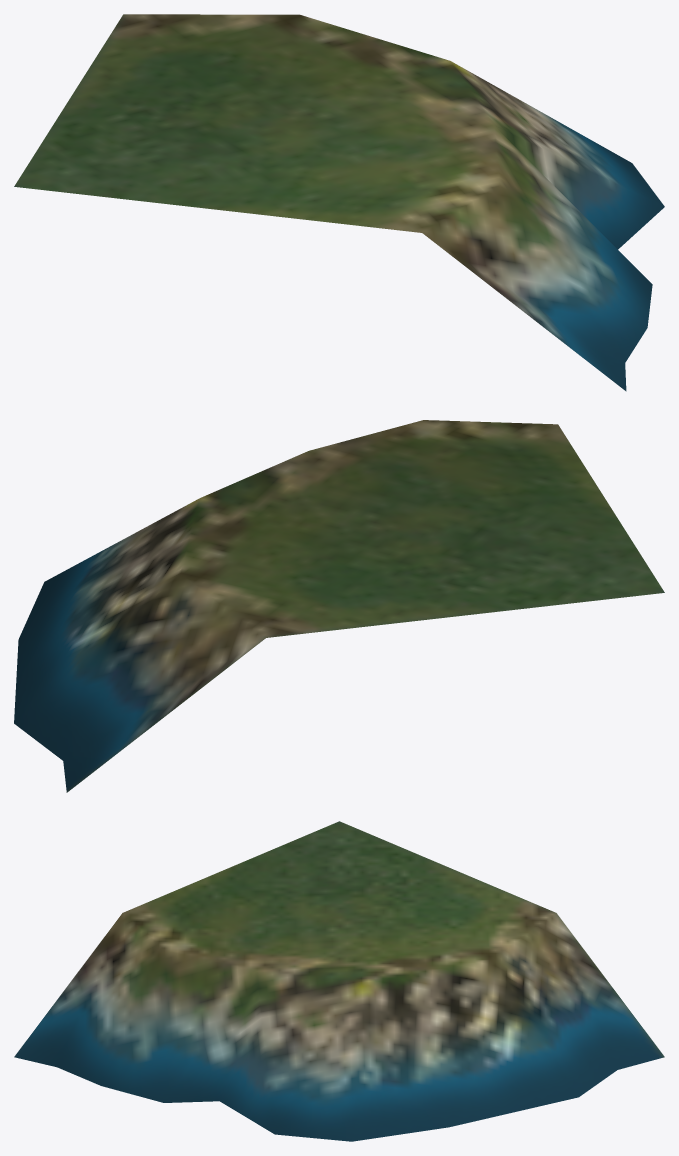
Rendered from Terrain@72.FBX.
3 renders of one model, top to bottom at view 1: azimuth 30°, elevation 25°; view 2: azimuth 150°, elevation 25°; view 3: azimuth 270°, elevation 25°, orthographic. The views are drawn at different scales.
Visible parts, largest first — view 1: Terrain@72; view 2: Terrain@72; view 3: Terrain@72.
Part boxes in pixels (x1=…): Terrain@72: x1=14, y1=14, x2=664, y2=391; Terrain@72: x1=14, y1=420, x2=664, y2=792; Terrain@72: x1=14, y1=821, x2=664, y2=1141.
Bounding box in the file's own units: 85.64 × 17.69 × 106.
